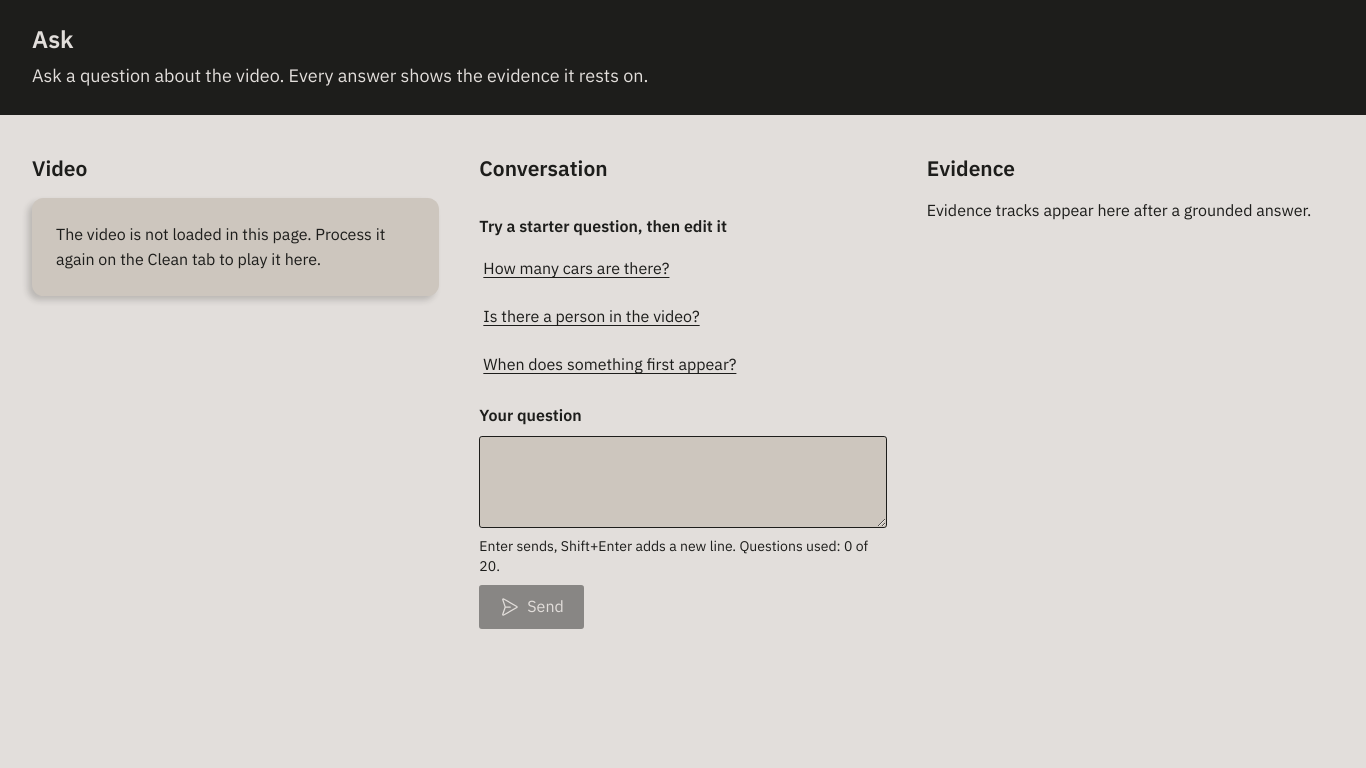
Test: AskView chat flow › fills the box from a starter, then shows the grounded answer and evidence
What coordinates should you click on to do the following:
click the button "How many cars are there?"
I would click on:
 (576, 269)
Its box is [479, 247, 673, 291].
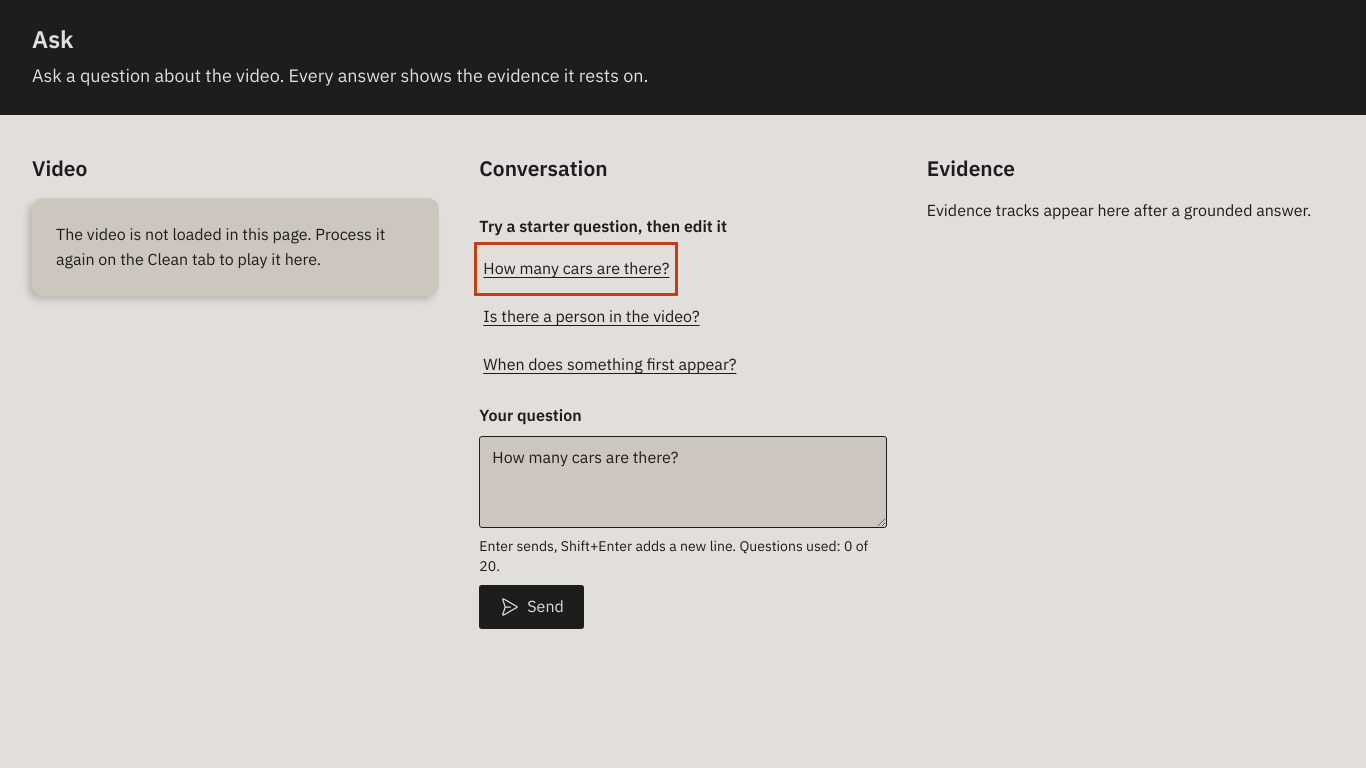
expect the text box labelled "Your question" holds "How many cars are there?": met, box [479, 436, 887, 528]
What coordinates should you click on to do the following:
click the button "Send"
I would click on:
 (532, 607)
Its box is [479, 585, 584, 629].
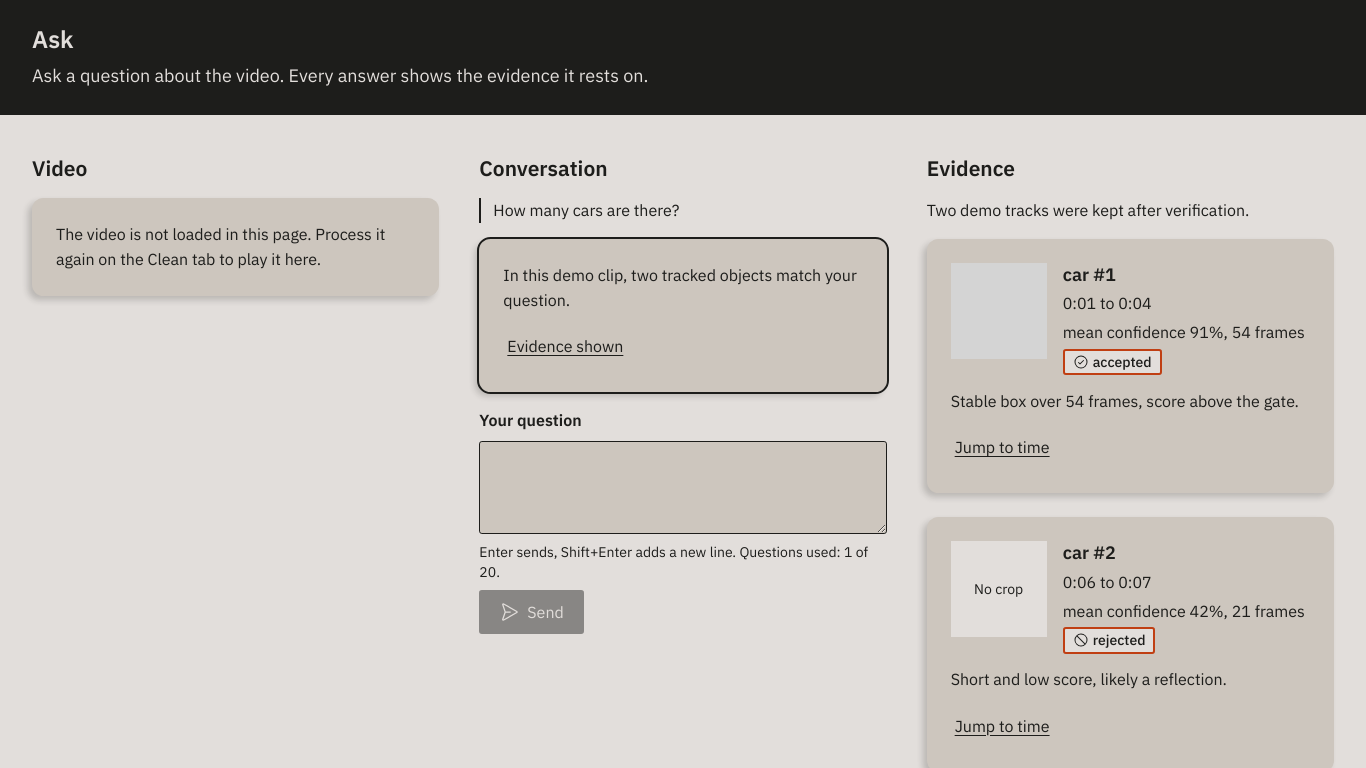
expect the text "accepted" is shown: met, box [1063, 349, 1162, 375]
expect the text "rejected" is shown: met, box [1063, 627, 1156, 654]
expect the text box labelled "Your question" is empty: met, box [479, 441, 887, 534]
